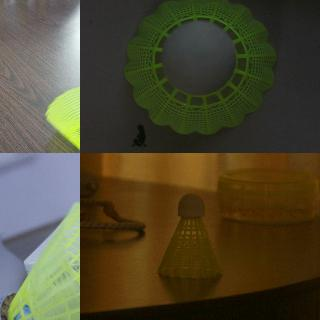shuttlecock: (125, 0, 277, 133), (0, 195, 79, 319), (157, 194, 221, 278), (43, 85, 79, 152)
